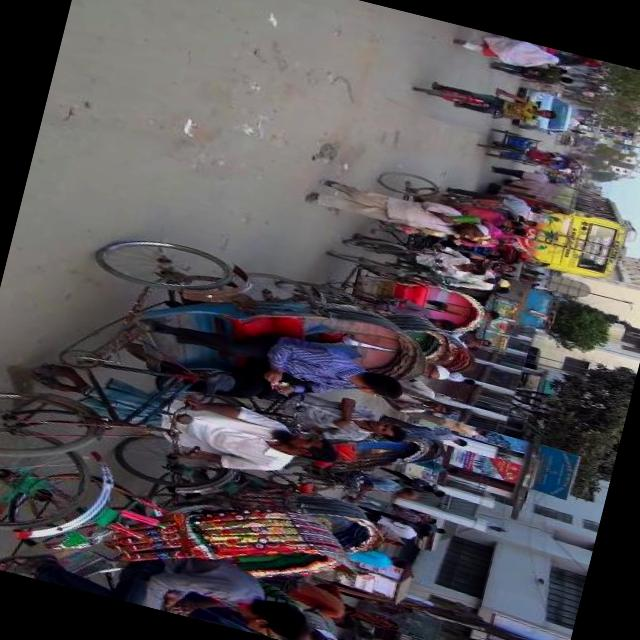bus: (469, 160, 640, 288)
car: (511, 82, 578, 136)
motorcycle: (0, 202, 442, 555), (0, 413, 379, 640), (268, 232, 494, 342), (270, 398, 440, 522)
truck: (469, 266, 565, 366)
